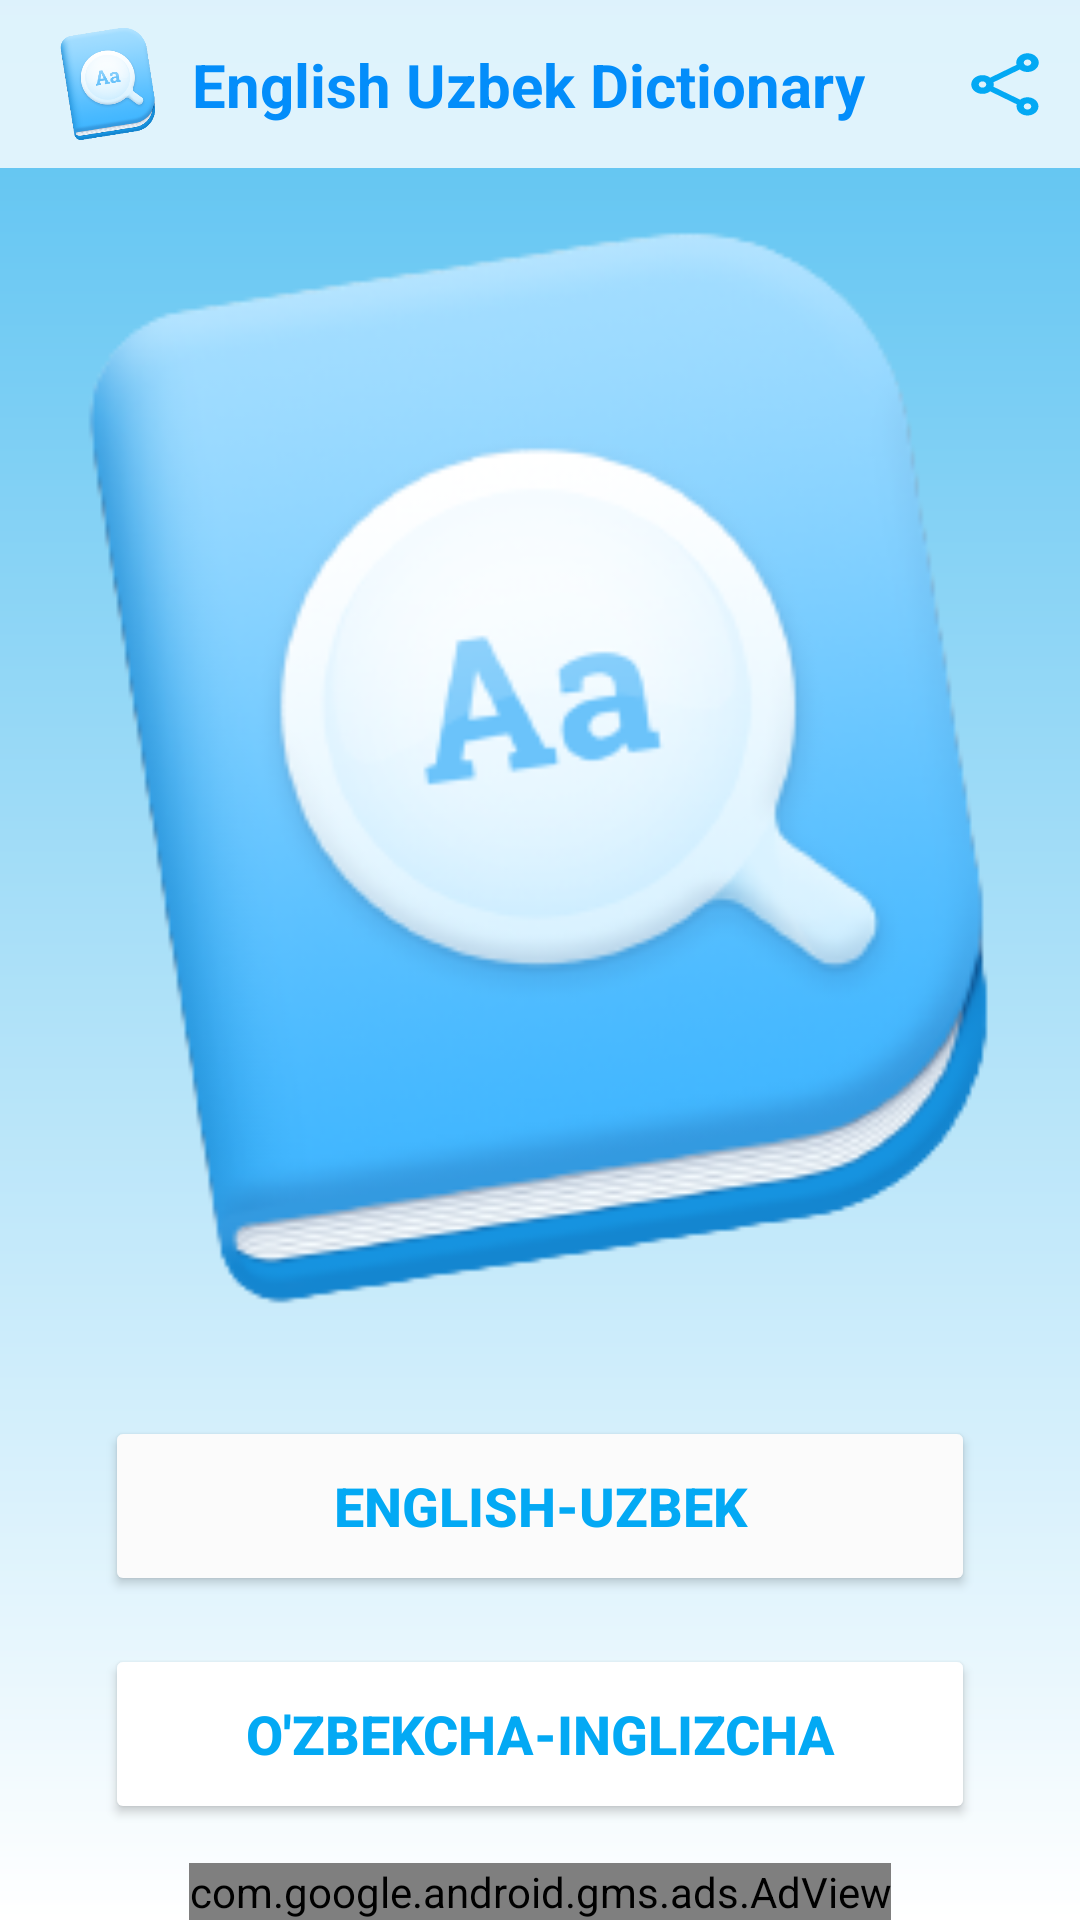

Where icons sit on this 1080 x 1920 app screen, as {"x1": x1, "y1": y1, "x2": x2, "y2": y2}:
share: {"x1": 971, "y1": 53, "x2": 1039, "y2": 116}
